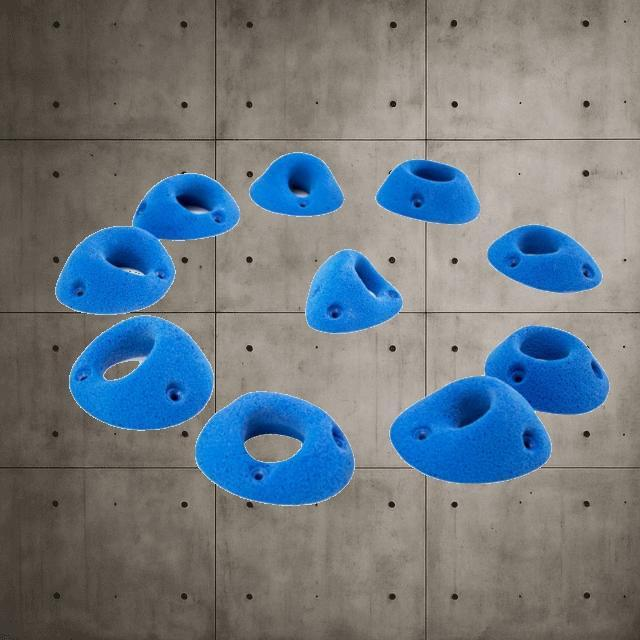Pocket: (194, 390, 354, 506), (389, 374, 551, 484), (68, 314, 214, 430), (483, 323, 609, 415), (55, 224, 175, 314), (304, 247, 402, 333), (486, 222, 602, 294), (132, 172, 240, 240), (376, 158, 480, 225), (248, 151, 344, 217)
